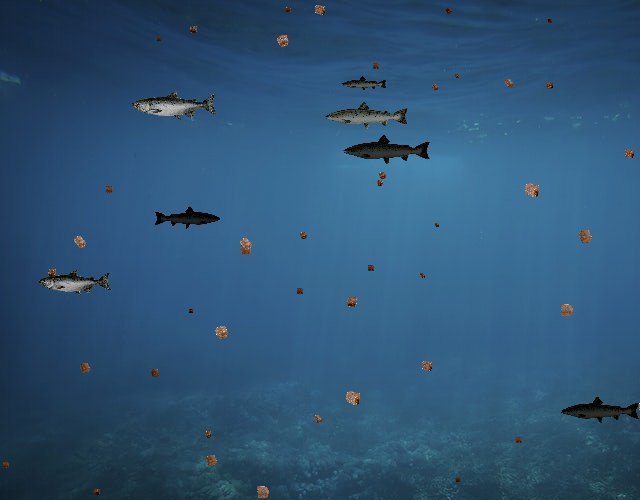Fish: (342, 133, 432, 166), (324, 100, 410, 131), (132, 90, 218, 121), (560, 395, 640, 425), (39, 270, 112, 296), (154, 205, 222, 230), (341, 75, 388, 92)
Pellet: (249, 479, 276, 500), (308, 0, 331, 22), (499, 73, 519, 93), (185, 21, 202, 38), (363, 261, 378, 275), (452, 70, 462, 80)
